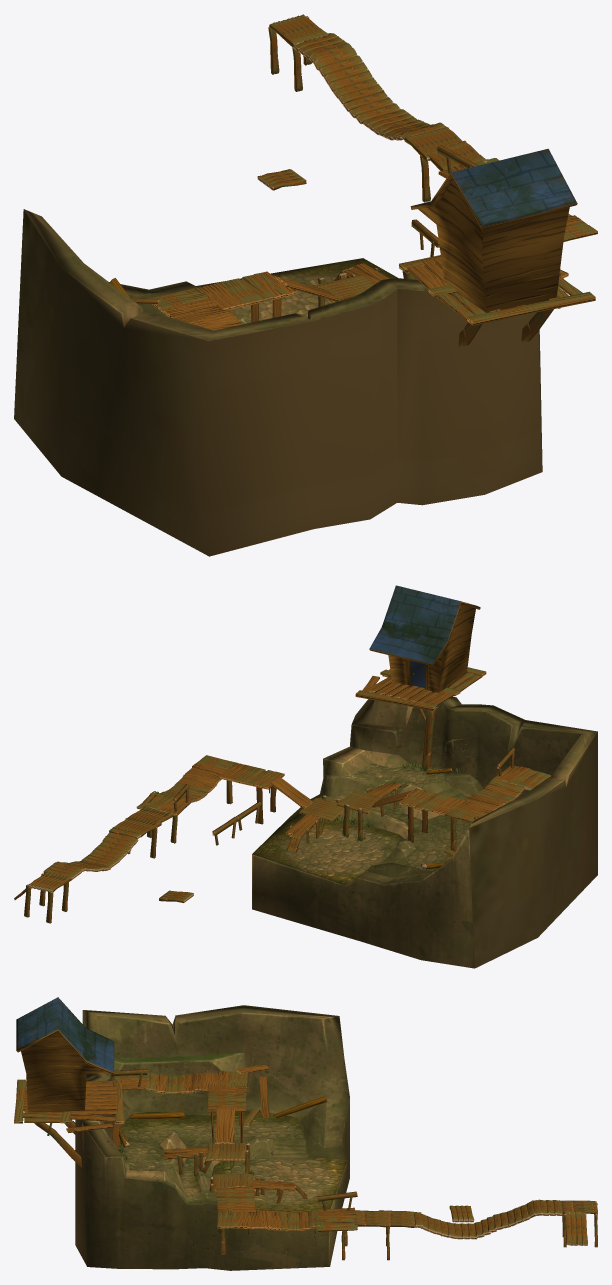
Rendered from GameMap1.fbx.
3 renders of one model, top to bottom at view 1: azimuth 30°, elevation 25°; view 2: azimuth 150°, elevation 25°; view 3: azimuth 270°, elevation 25°, orthographic. The views are drawn at different scales.
Visible parts, largest first — view 1: Sketchfab_model_c0ec2f9e55834f34a3ddc627524b49a7.fbx_RootNod; view 2: Sketchfab_model_c0ec2f9e55834f34a3ddc627524b49a7.fbx_RootNod; view 3: Sketchfab_model_c0ec2f9e55834f34a3ddc627524b49a7.fbx_RootNod.
Boxes of the visible parts, x1,y1,x2,y2 form: Sketchfab_model_c0ec2f9e55834f34a3ddc627524b49a7.fbx_RootNod: [14, 14, 597, 556]; Sketchfab_model_c0ec2f9e55834f34a3ddc627524b49a7.fbx_RootNod: [14, 585, 597, 968]; Sketchfab_model_c0ec2f9e55834f34a3ddc627524b49a7.fbx_RootNod: [14, 997, 597, 1270].
Bounding box in the file's own units: 259 × 159 × 363.
